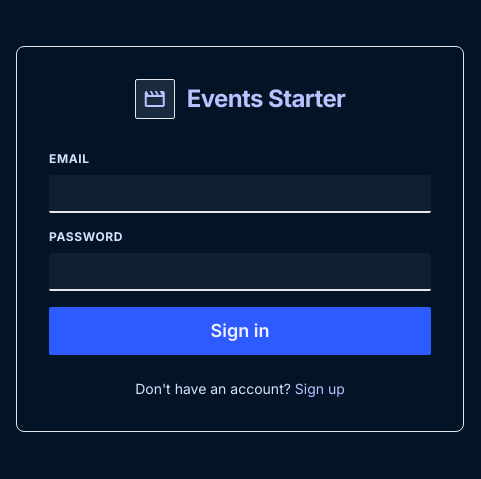
Scenario: LoginForm › error de backend con code → se traduce (errors.UNAUTHORIZED)
The image size is (481, 479).
Type "wrong@example.com" into the field at (240, 194), box x1=49 y1=175 x2=431 y2=213
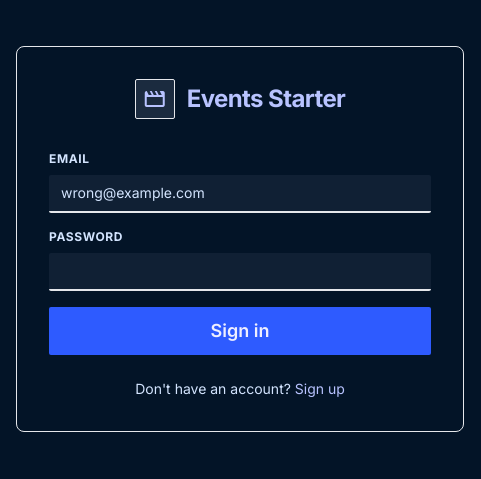
Type "wrongpass" into the password field at (240, 272), box x1=49 y1=253 x2=431 y2=291
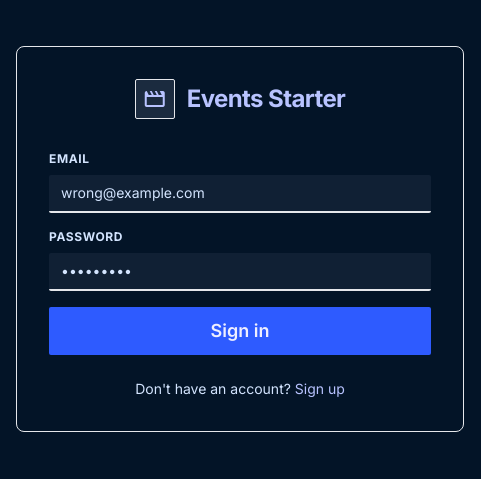
Click the button "Sign in" at (240, 331), box x1=49 y1=307 x2=431 y2=355
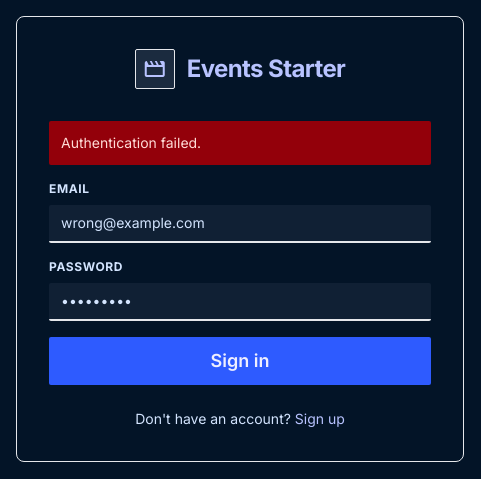
Result: the text "Authentication failed." is shown at x1=49 y1=121 x2=431 y2=165
